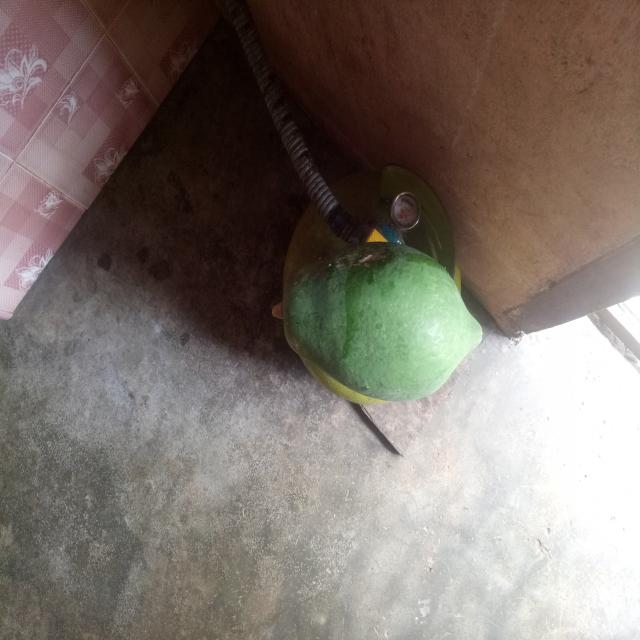Pepaya unrippen: (269, 257, 487, 407)
